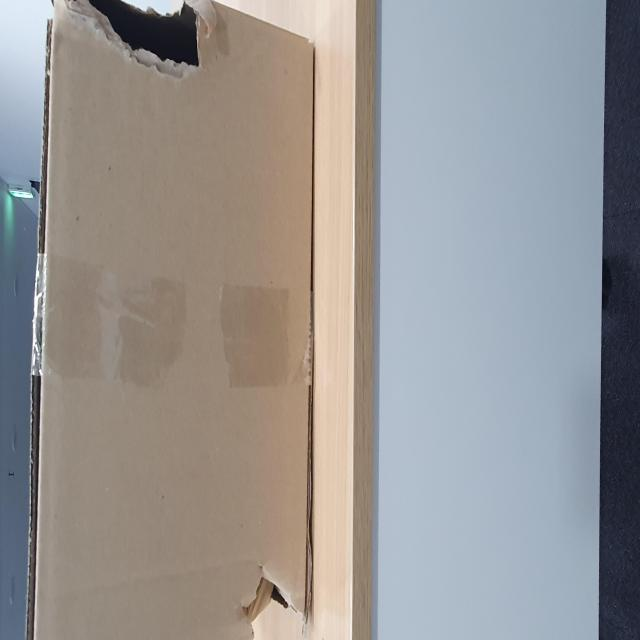damaged: (319, 122, 360, 363), (15, 424, 42, 525)
